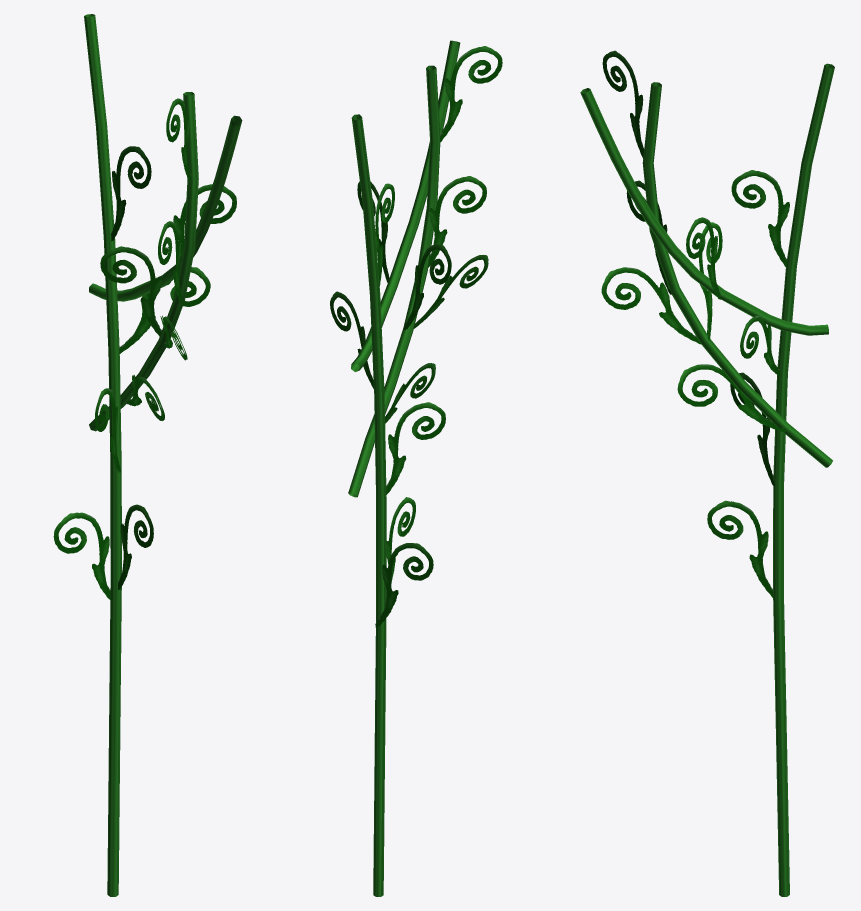
File: Lians2.FBX
3 views of the same model, side by side, from view 1: azimuth 30°, elevation 25°; view 2: azimuth 150°, elevation 25°; view 3: azimuth 270°, elevation 25° (orthographic). The views are drawn at different scales.
Visible parts, largest first — view 1: Lians2; view 2: Lians2; view 3: Lians2.
Part boxes in pixels (left/top/right/bottom): Lians2: left=53, top=14, right=242, bottom=896; Lians2: left=330, top=40, right=502, bottom=896; Lians2: left=580, top=50, right=834, bottom=896.
Bounding box in the file's own units: 3.36 × 13.96 × 4.03.
1 material, 1 textured.
